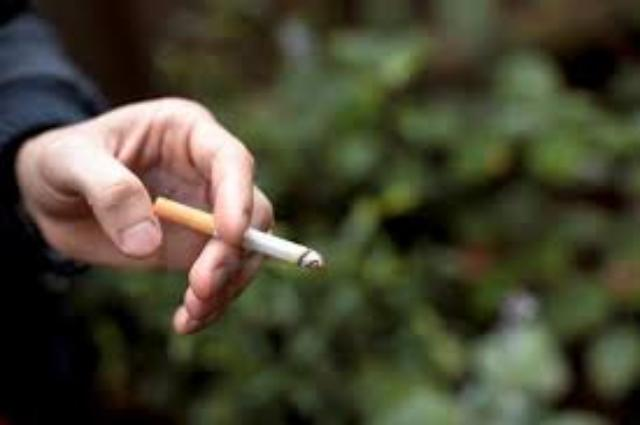Cigarette: (153, 195, 324, 270)
